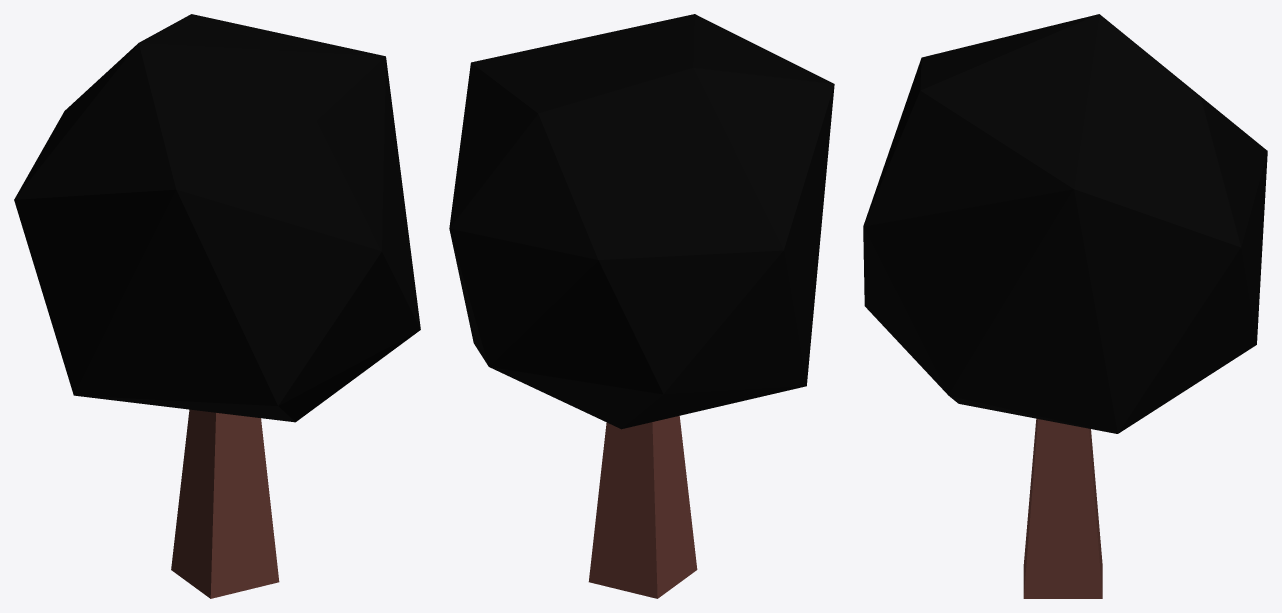
The model's file is tree_super_LOW.fbx.
3 renders of one model, left to right at view 1: azimuth 30°, elevation 25°; view 2: azimuth 150°, elevation 25°; view 3: azimuth 270°, elevation 25°, orthographic.
Parts seen in each view (by area): view 1: tree_super_LOW; view 2: tree_super_LOW; view 3: tree_super_LOW.
Boxes of the visible parts, x1,y1,x2,y2 form: tree_super_LOW: (14, 14, 420, 598); tree_super_LOW: (449, 14, 834, 598); tree_super_LOW: (863, 14, 1267, 598).
Size of the model in its own units: 159 by 238 by 163.
